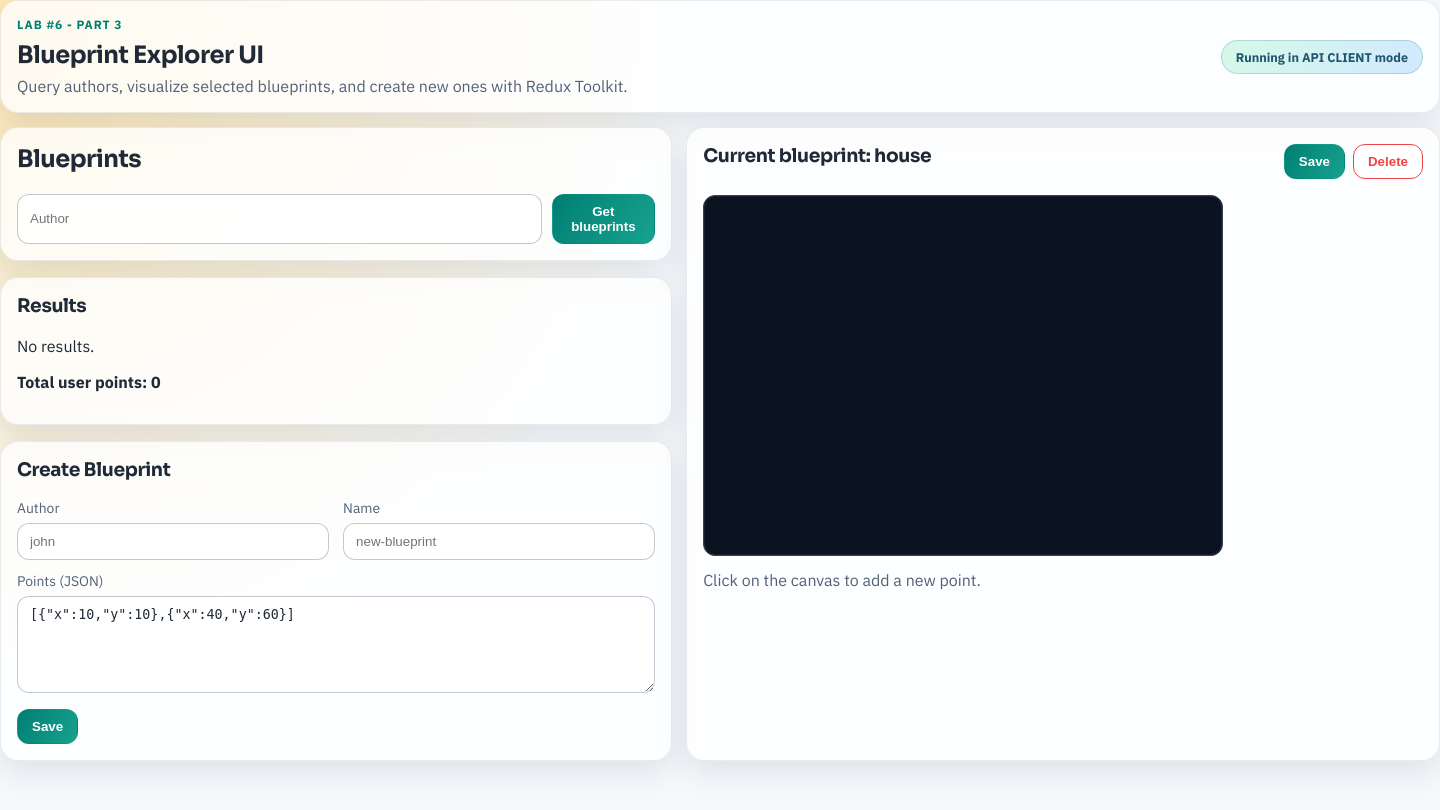
Test: BlueprintsPage › shows update error feedback when save fails
Click the button "Save" in the row of "house". click: click(1314, 162)
box: [1284,144,1345,179]
(page scrolled)
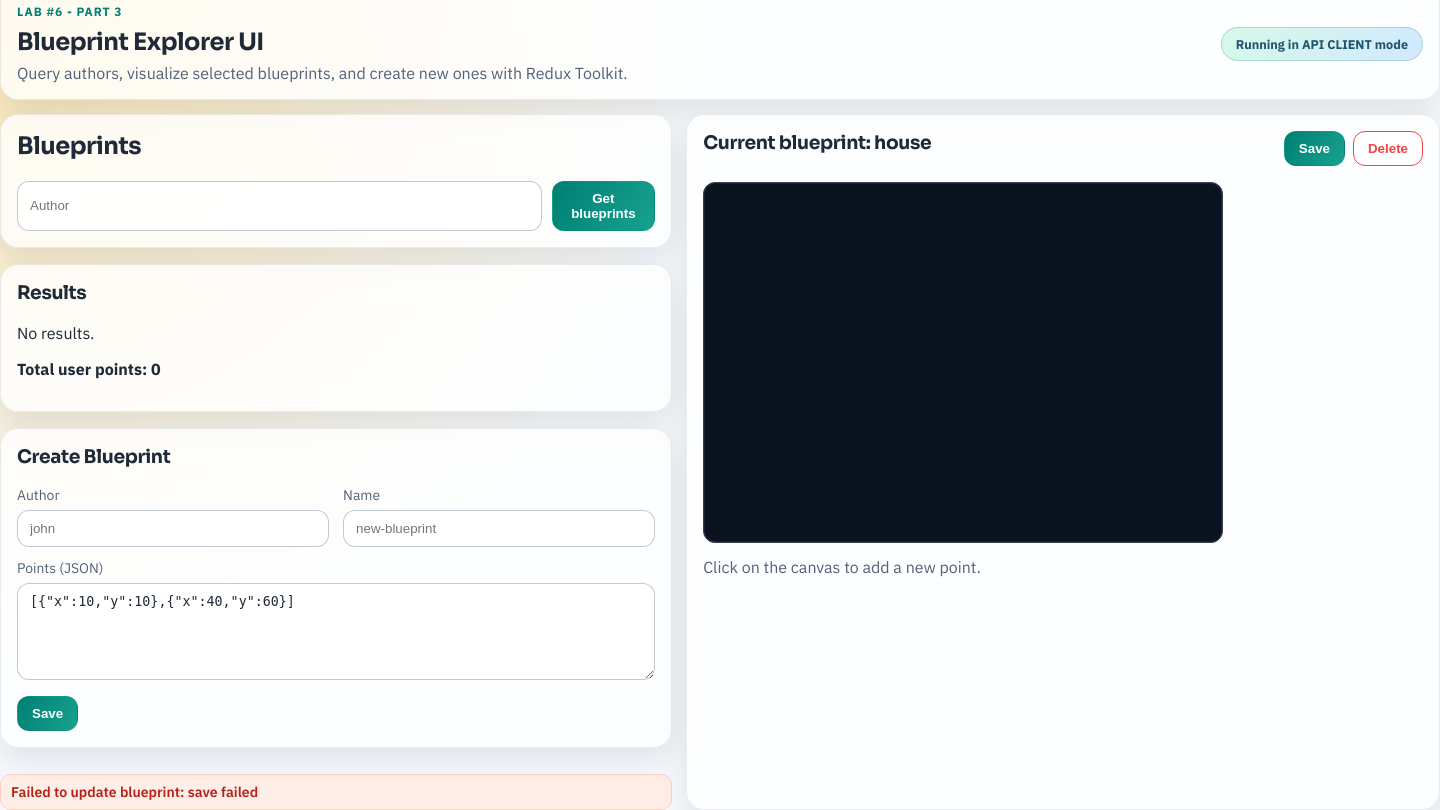
Expected: the text "Failed to update blueprint: save failed" is shown, [0,774,672,809]
